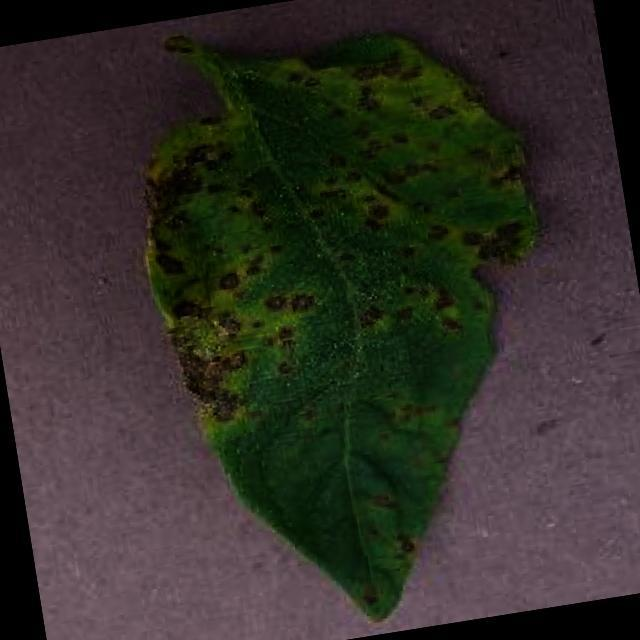Tomato Septoria spot leaf: (125, 14, 595, 640)
